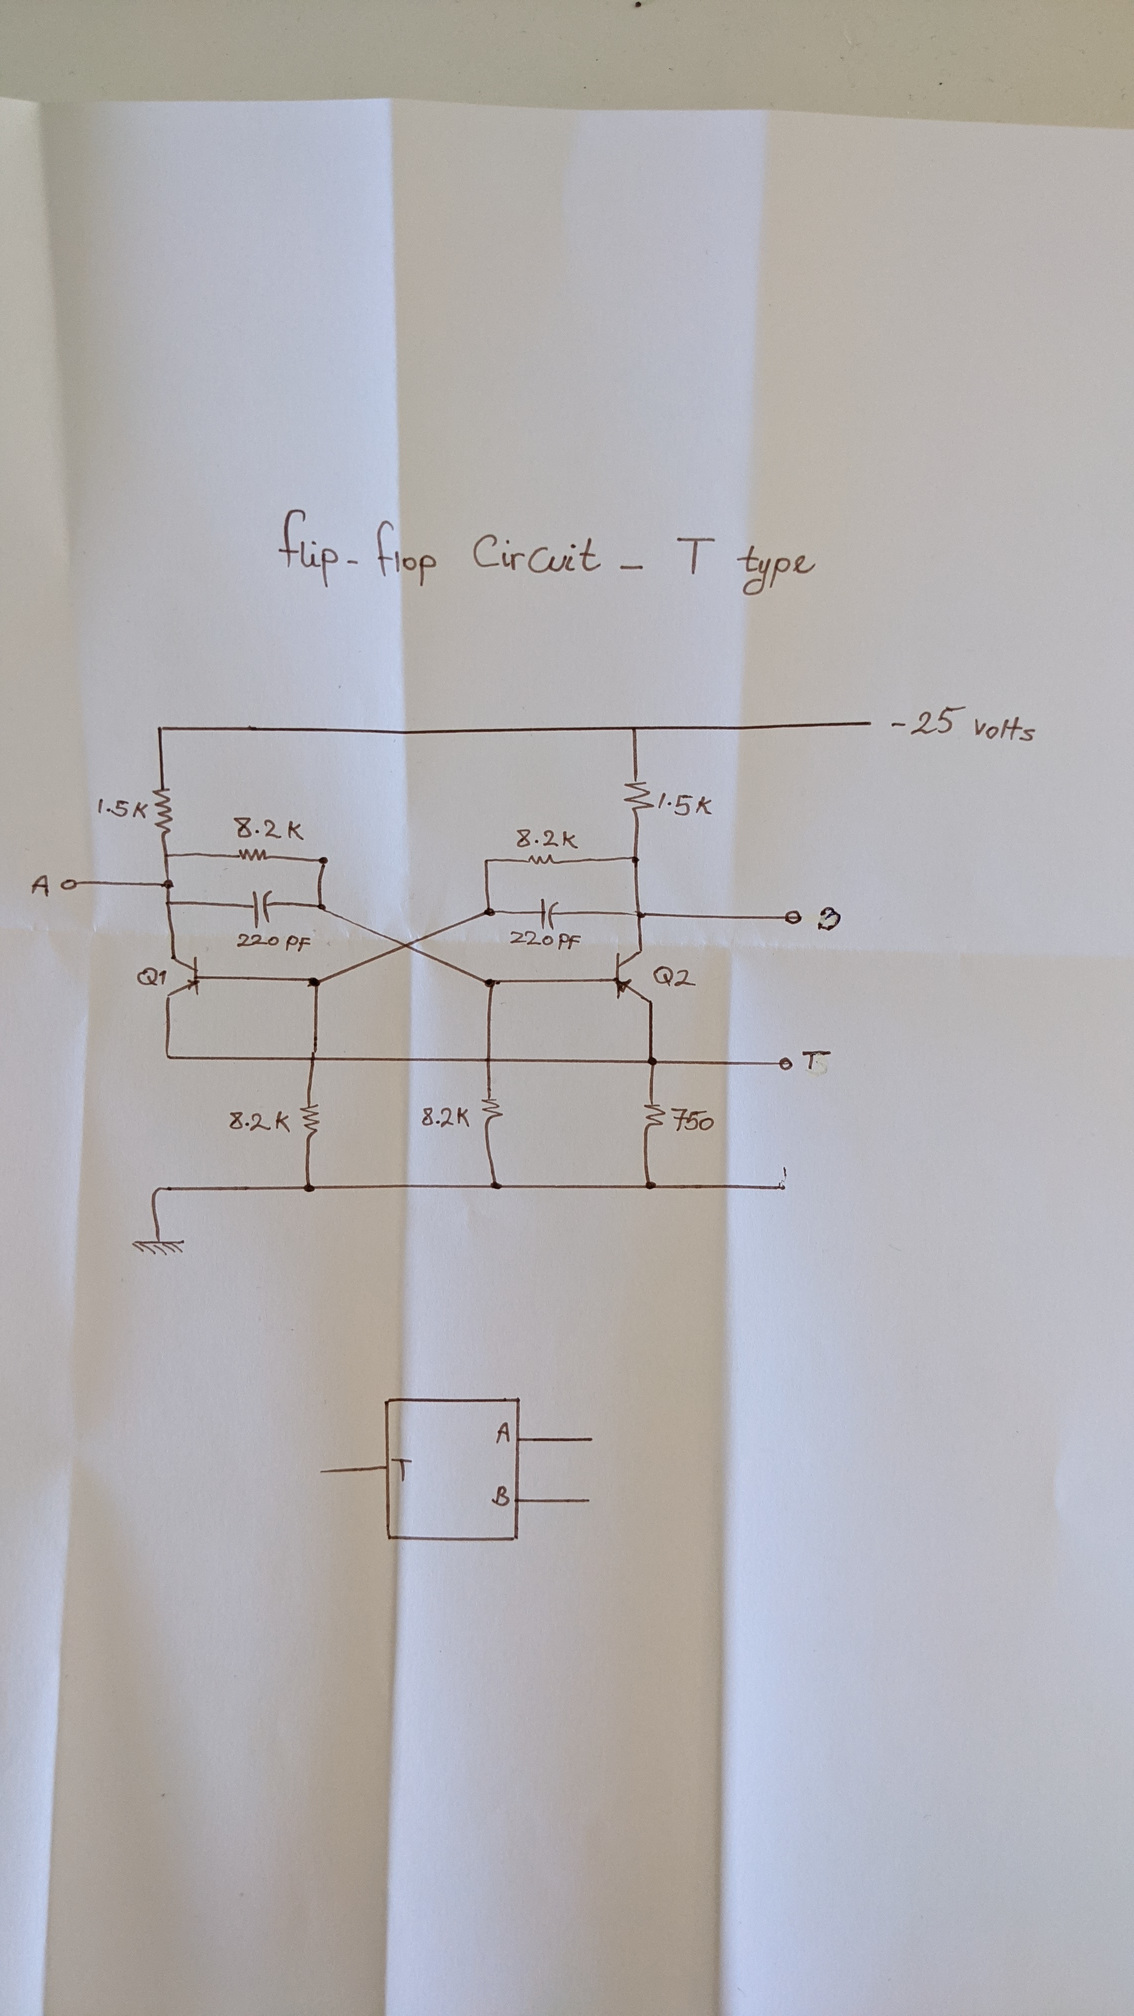capacitor.unpolarized: (249, 888, 278, 930), (539, 896, 562, 930)
crossover: (396, 939, 415, 953), (483, 1052, 498, 1069), (305, 1050, 320, 1065)
gnd: (129, 1236, 188, 1257)
integrated_circuit: (382, 1396, 523, 1542)
junction: (623, 908, 649, 922), (305, 975, 325, 990), (480, 976, 500, 991), (487, 1180, 505, 1194), (480, 906, 498, 919), (773, 1181, 791, 1195), (161, 876, 176, 892), (642, 1180, 659, 1194), (148, 1182, 161, 1199), (316, 854, 332, 867), (314, 900, 328, 914), (302, 1182, 317, 1195), (627, 723, 642, 735), (647, 1055, 660, 1068), (629, 853, 641, 865), (162, 1050, 173, 1063), (154, 724, 168, 735), (480, 856, 493, 865), (163, 899, 174, 908), (162, 852, 172, 860)
resistor: (622, 775, 656, 821), (150, 784, 176, 836), (296, 1101, 323, 1144), (479, 1097, 505, 1133), (641, 1101, 667, 1137), (235, 846, 273, 864), (523, 852, 558, 867)
terminal: (784, 908, 803, 926), (60, 876, 80, 892), (777, 1055, 793, 1072), (316, 1466, 327, 1477), (586, 1434, 597, 1446), (584, 1494, 594, 1506), (864, 719, 875, 728)
text: (274, 505, 820, 600), (888, 702, 1038, 745), (233, 814, 307, 843), (226, 1108, 294, 1135), (235, 932, 312, 955), (508, 929, 583, 953), (515, 827, 582, 852), (655, 791, 714, 818), (669, 1104, 717, 1134), (96, 796, 150, 821), (420, 1105, 472, 1130), (651, 964, 698, 989), (136, 965, 169, 989), (800, 1048, 834, 1072), (816, 906, 842, 933), (390, 1455, 415, 1484), (29, 872, 53, 901), (487, 1483, 512, 1509), (493, 1418, 512, 1446)
transistor: (612, 948, 655, 1005), (165, 955, 202, 1000)
